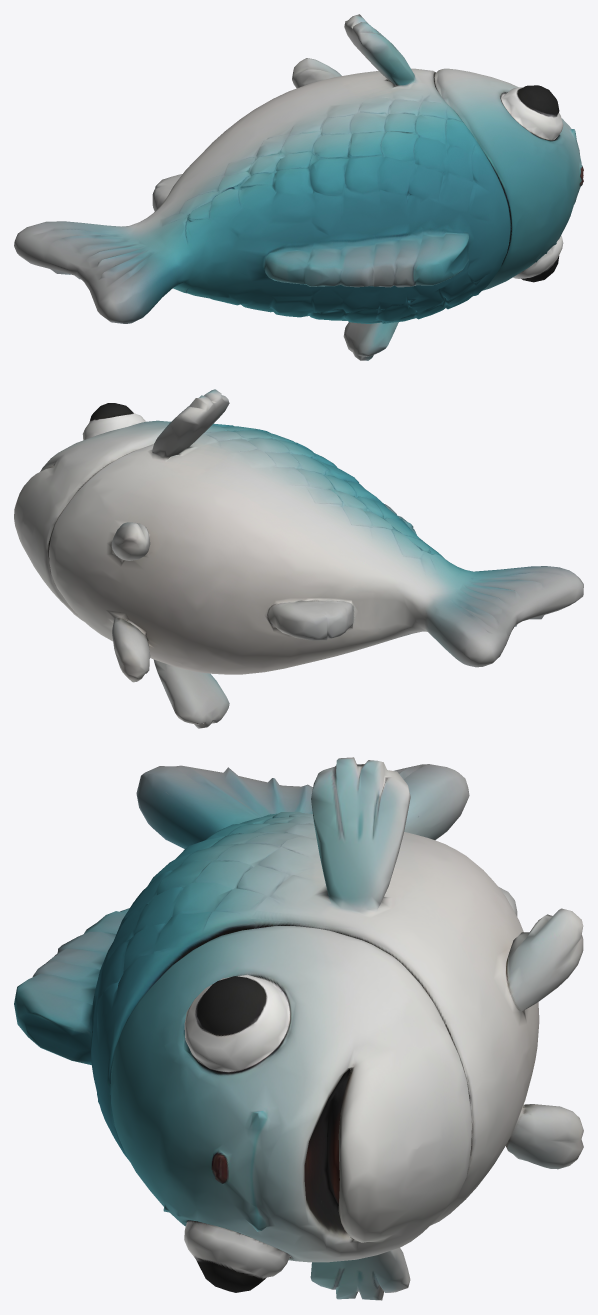
The model's file is kitchen-fish-v1.glb.
3 renders of one model, top to bottom at view 1: azimuth 30°, elevation 25°; view 2: azimuth 150°, elevation 25°; view 3: azimuth 270°, elevation 25°, orthographic. The views are drawn at different scales.
Parts seen in each view (by area): view 1: Cartoon_fish_nose_positive_X_eye_up; view 2: Cartoon_fish_nose_positive_X_eye_up; view 3: Cartoon_fish_nose_positive_X_eye_up.
Part boxes in pixels (left/top/right/bottom): Cartoon_fish_nose_positive_X_eye_up: left=14, top=14, right=583, bottom=360; Cartoon_fish_nose_positive_X_eye_up: left=14, top=389, right=583, bottom=728; Cartoon_fish_nose_positive_X_eye_up: left=14, top=757, right=583, bottom=1300.
Bounding box in the file's own units: 1 × 0.622 × 0.5969.
1 material, 1 textured.
